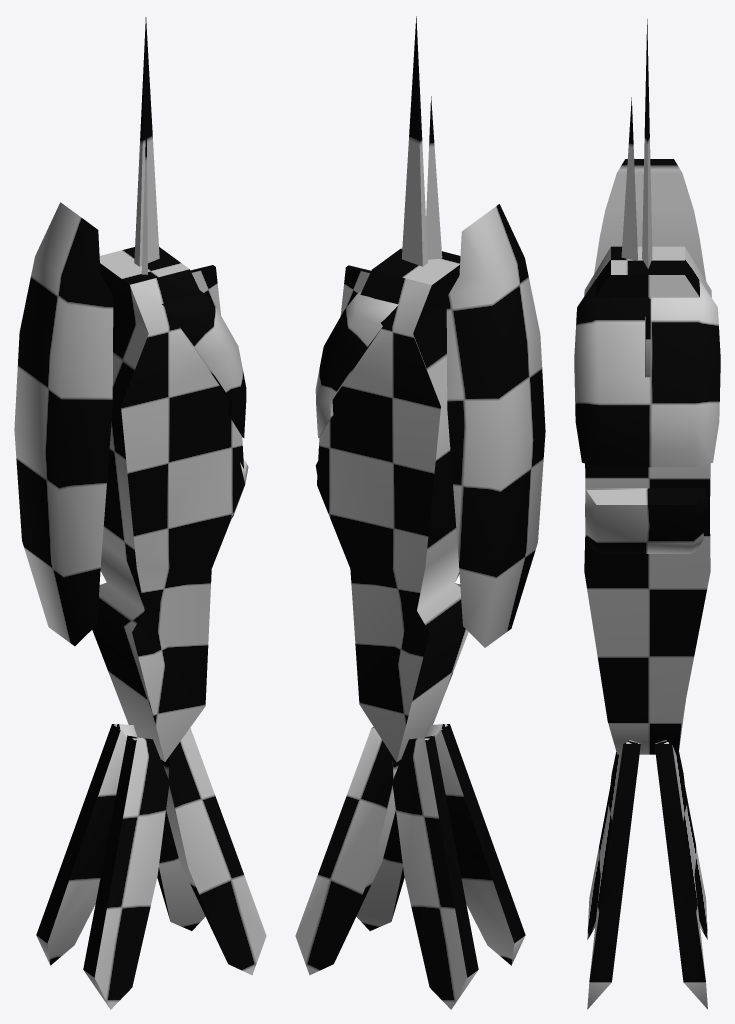
Rendered from beacon-static.obj.
3 views of the same model, side by side, from view 1: azimuth 30°, elevation 25°; view 2: azimuth 150°, elevation 25°; view 3: azimuth 270°, elevation 25° (orthographic).
Visible parts, largest first — view 1: main; view 2: main; view 3: main.
Part boxes in pixels (x1,y1,x2,y2): main: (14, 17, 266, 1009); main: (295, 16, 545, 1009); main: (574, 19, 720, 1009).
Bounding box in the file's own units: 66.51 × 304 × 42.14.
1 material, 1 textured.
